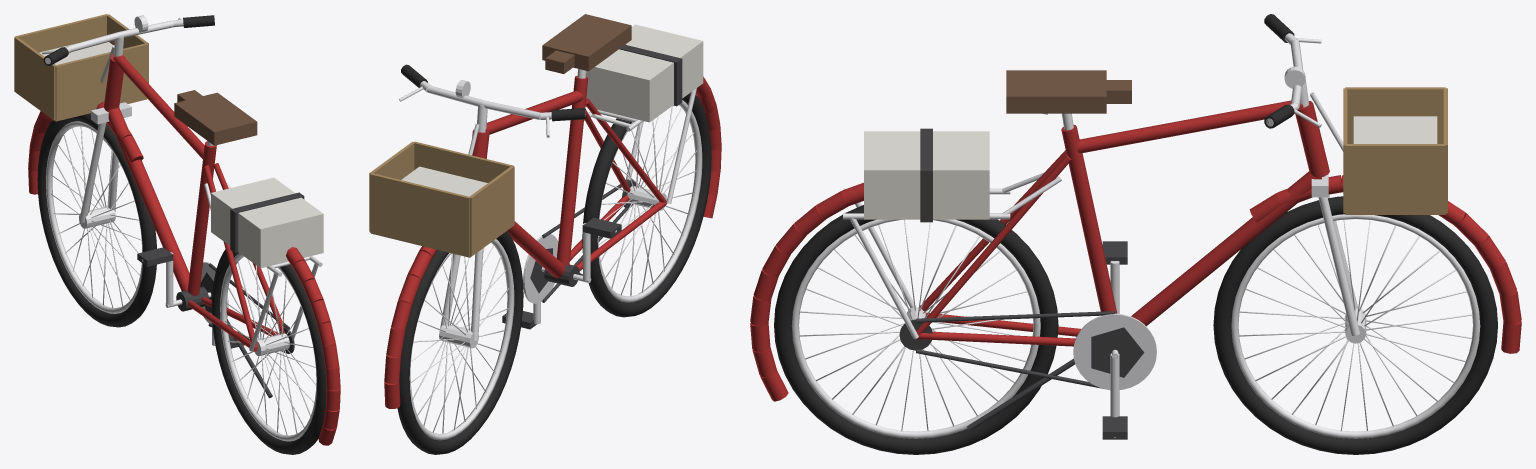
Rendered from bicycle.glb.
The picture shows the model from 3 angles, left to right: view 1: azimuth 30°, elevation 25°; view 2: azimuth 150°, elevation 25°; view 3: azimuth 270°, elevation 25°; orthographic projection. The views are drawn at different scales.
Parts seen in each view (by area): view 1: Frame, Fork, FrontWheel, RearWheel, FrontMudguard, Crank, PedalL; view 2: Frame, Fork, FrontWheel, RearWheel, FrontMudguard, Crank, PedalL; view 3: Frame, FrontWheel, RearWheel, Fork, Crank, FrontMudguard.
Boxes of the visible parts, box(x1,y1,x2,y2) form: Frame: box(103, 54, 340, 445); Fork: box(14, 14, 214, 222); FrontWheel: box(37, 113, 156, 327); RearWheel: box(211, 249, 326, 454); FrontMudguard: box(28, 102, 143, 194); Crank: box(165, 252, 228, 345); PedalL: box(137, 247, 173, 266); Frame: box(472, 14, 721, 302); Fork: box(369, 64, 585, 340); FrontWheel: box(397, 231, 523, 454); RearWheel: box(582, 92, 711, 317); FrontMudguard: box(384, 246, 437, 408); Crank: box(523, 223, 591, 324); PedalL: box(583, 217, 621, 238); Frame: box(750, 70, 1329, 430); FrontWheel: box(1213, 196, 1497, 454); RearWheel: box(774, 205, 1058, 454); Fork: box(1264, 14, 1447, 335); Crank: box(1073, 261, 1156, 417); FrontMudguard: box(1249, 175, 1521, 353).
Size of the model in its own units: 0.5953 by 1.05 by 1.84.
